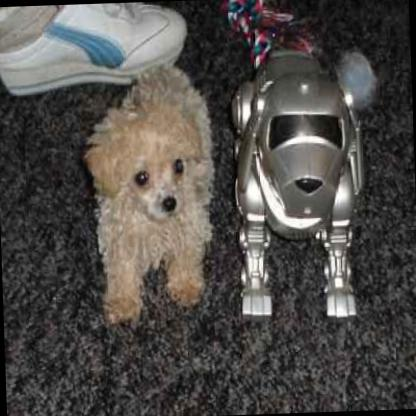toy_poodle: (80, 54, 218, 323)
